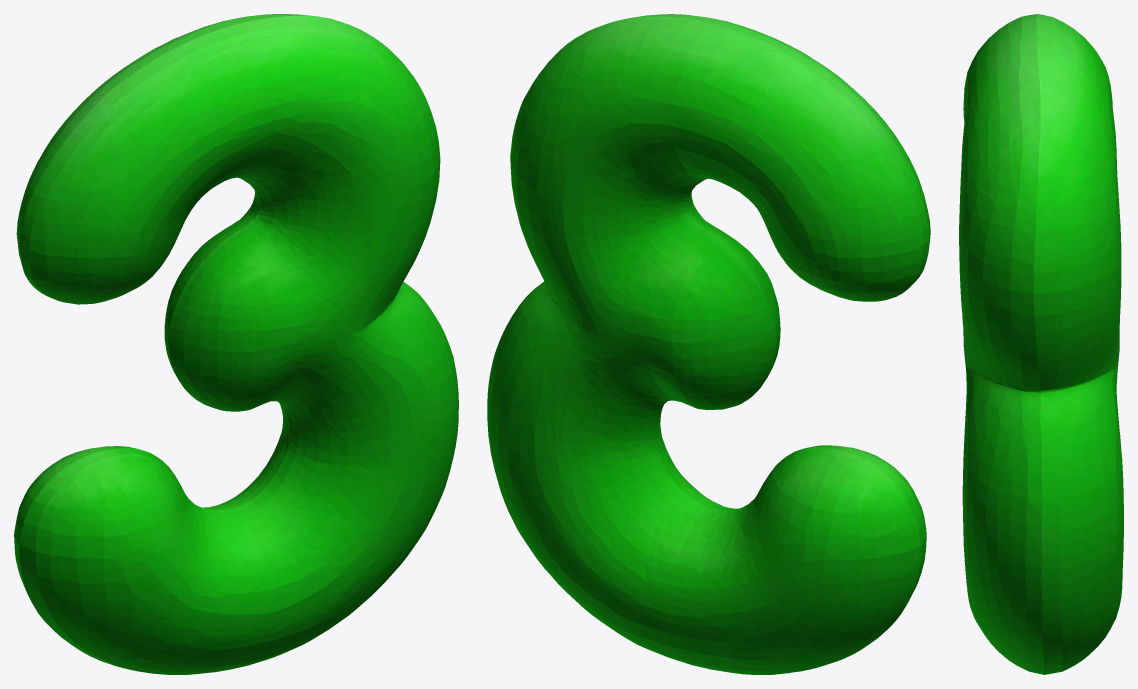
3 renders of one model, left to right at view 1: azimuth 30°, elevation 25°; view 2: azimuth 150°, elevation 25°; view 3: azimuth 270°, elevation 25°, orthographic. The views are drawn at different scales.
Parts seen in each view (by area): view 1: geometry_0; view 2: geometry_0; view 3: geometry_0.
Part boxes in pixels (x1,y1,x2,y2): geometry_0: [14, 14, 458, 674]; geometry_0: [487, 14, 930, 674]; geometry_0: [959, 14, 1123, 674].
Size of the model in its own units: 0.7093 by 1 by 0.2445.
Materials: 1 (1 with a texture image).
